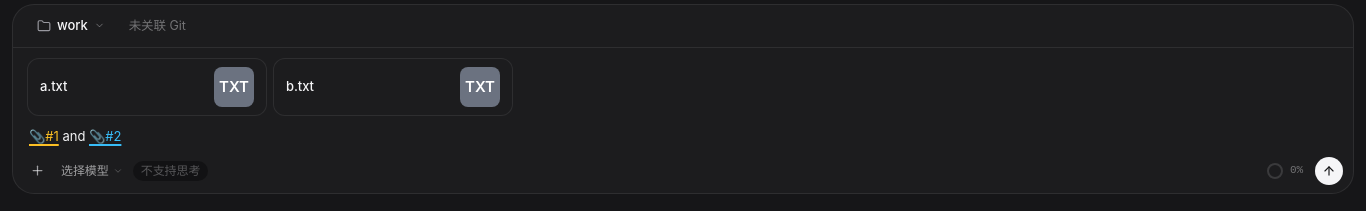
Scenario: selection-deleted attachment tokens › files get the same renumbering
Replace the text in the text box with " and 📎#2". click: (683, 134)
box: [13,116,1353,152]
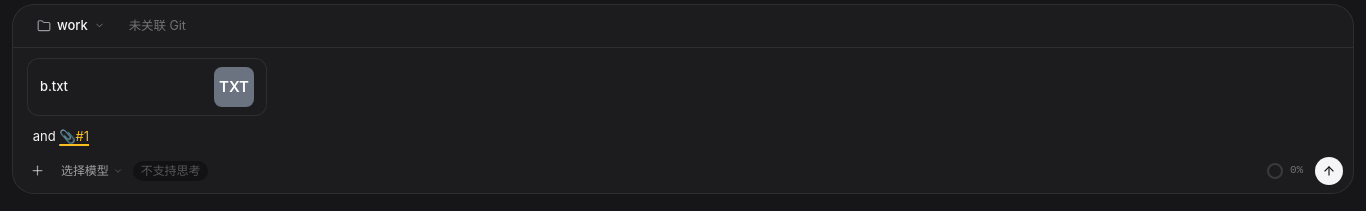
Expected: the element showing "and 📎#1" is shown, [29,128,89,144]
